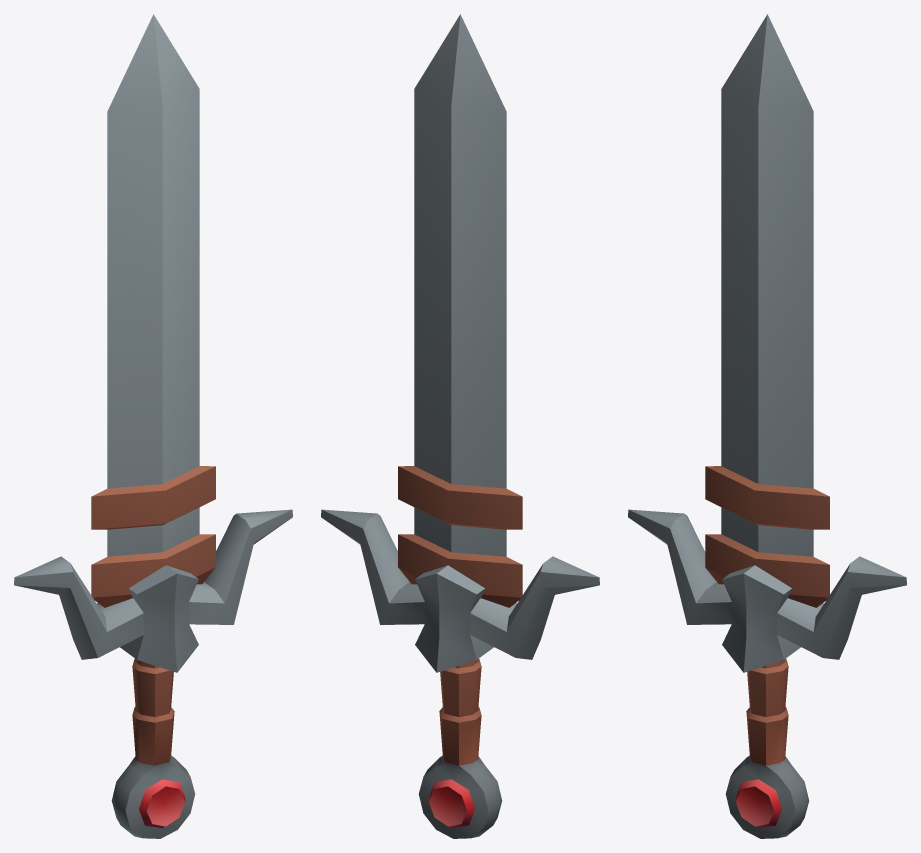
3 renders of one model, left to right at view 1: azimuth 30°, elevation 25°; view 2: azimuth 150°, elevation 25°; view 3: azimuth 330°, elevation 25°, orthographic.
Visible parts, largest first — view 1: sword_2handed; view 2: sword_2handed; view 3: sword_2handed.
Boxes of the visible parts, bbox=[...] form: sword_2handed: bbox=[14, 14, 292, 838]; sword_2handed: bbox=[321, 14, 599, 838]; sword_2handed: bbox=[628, 14, 906, 838].
Bounding box in the file's own units: 0.839 × 2.37 × 0.248.
1 material, 1 textured.
